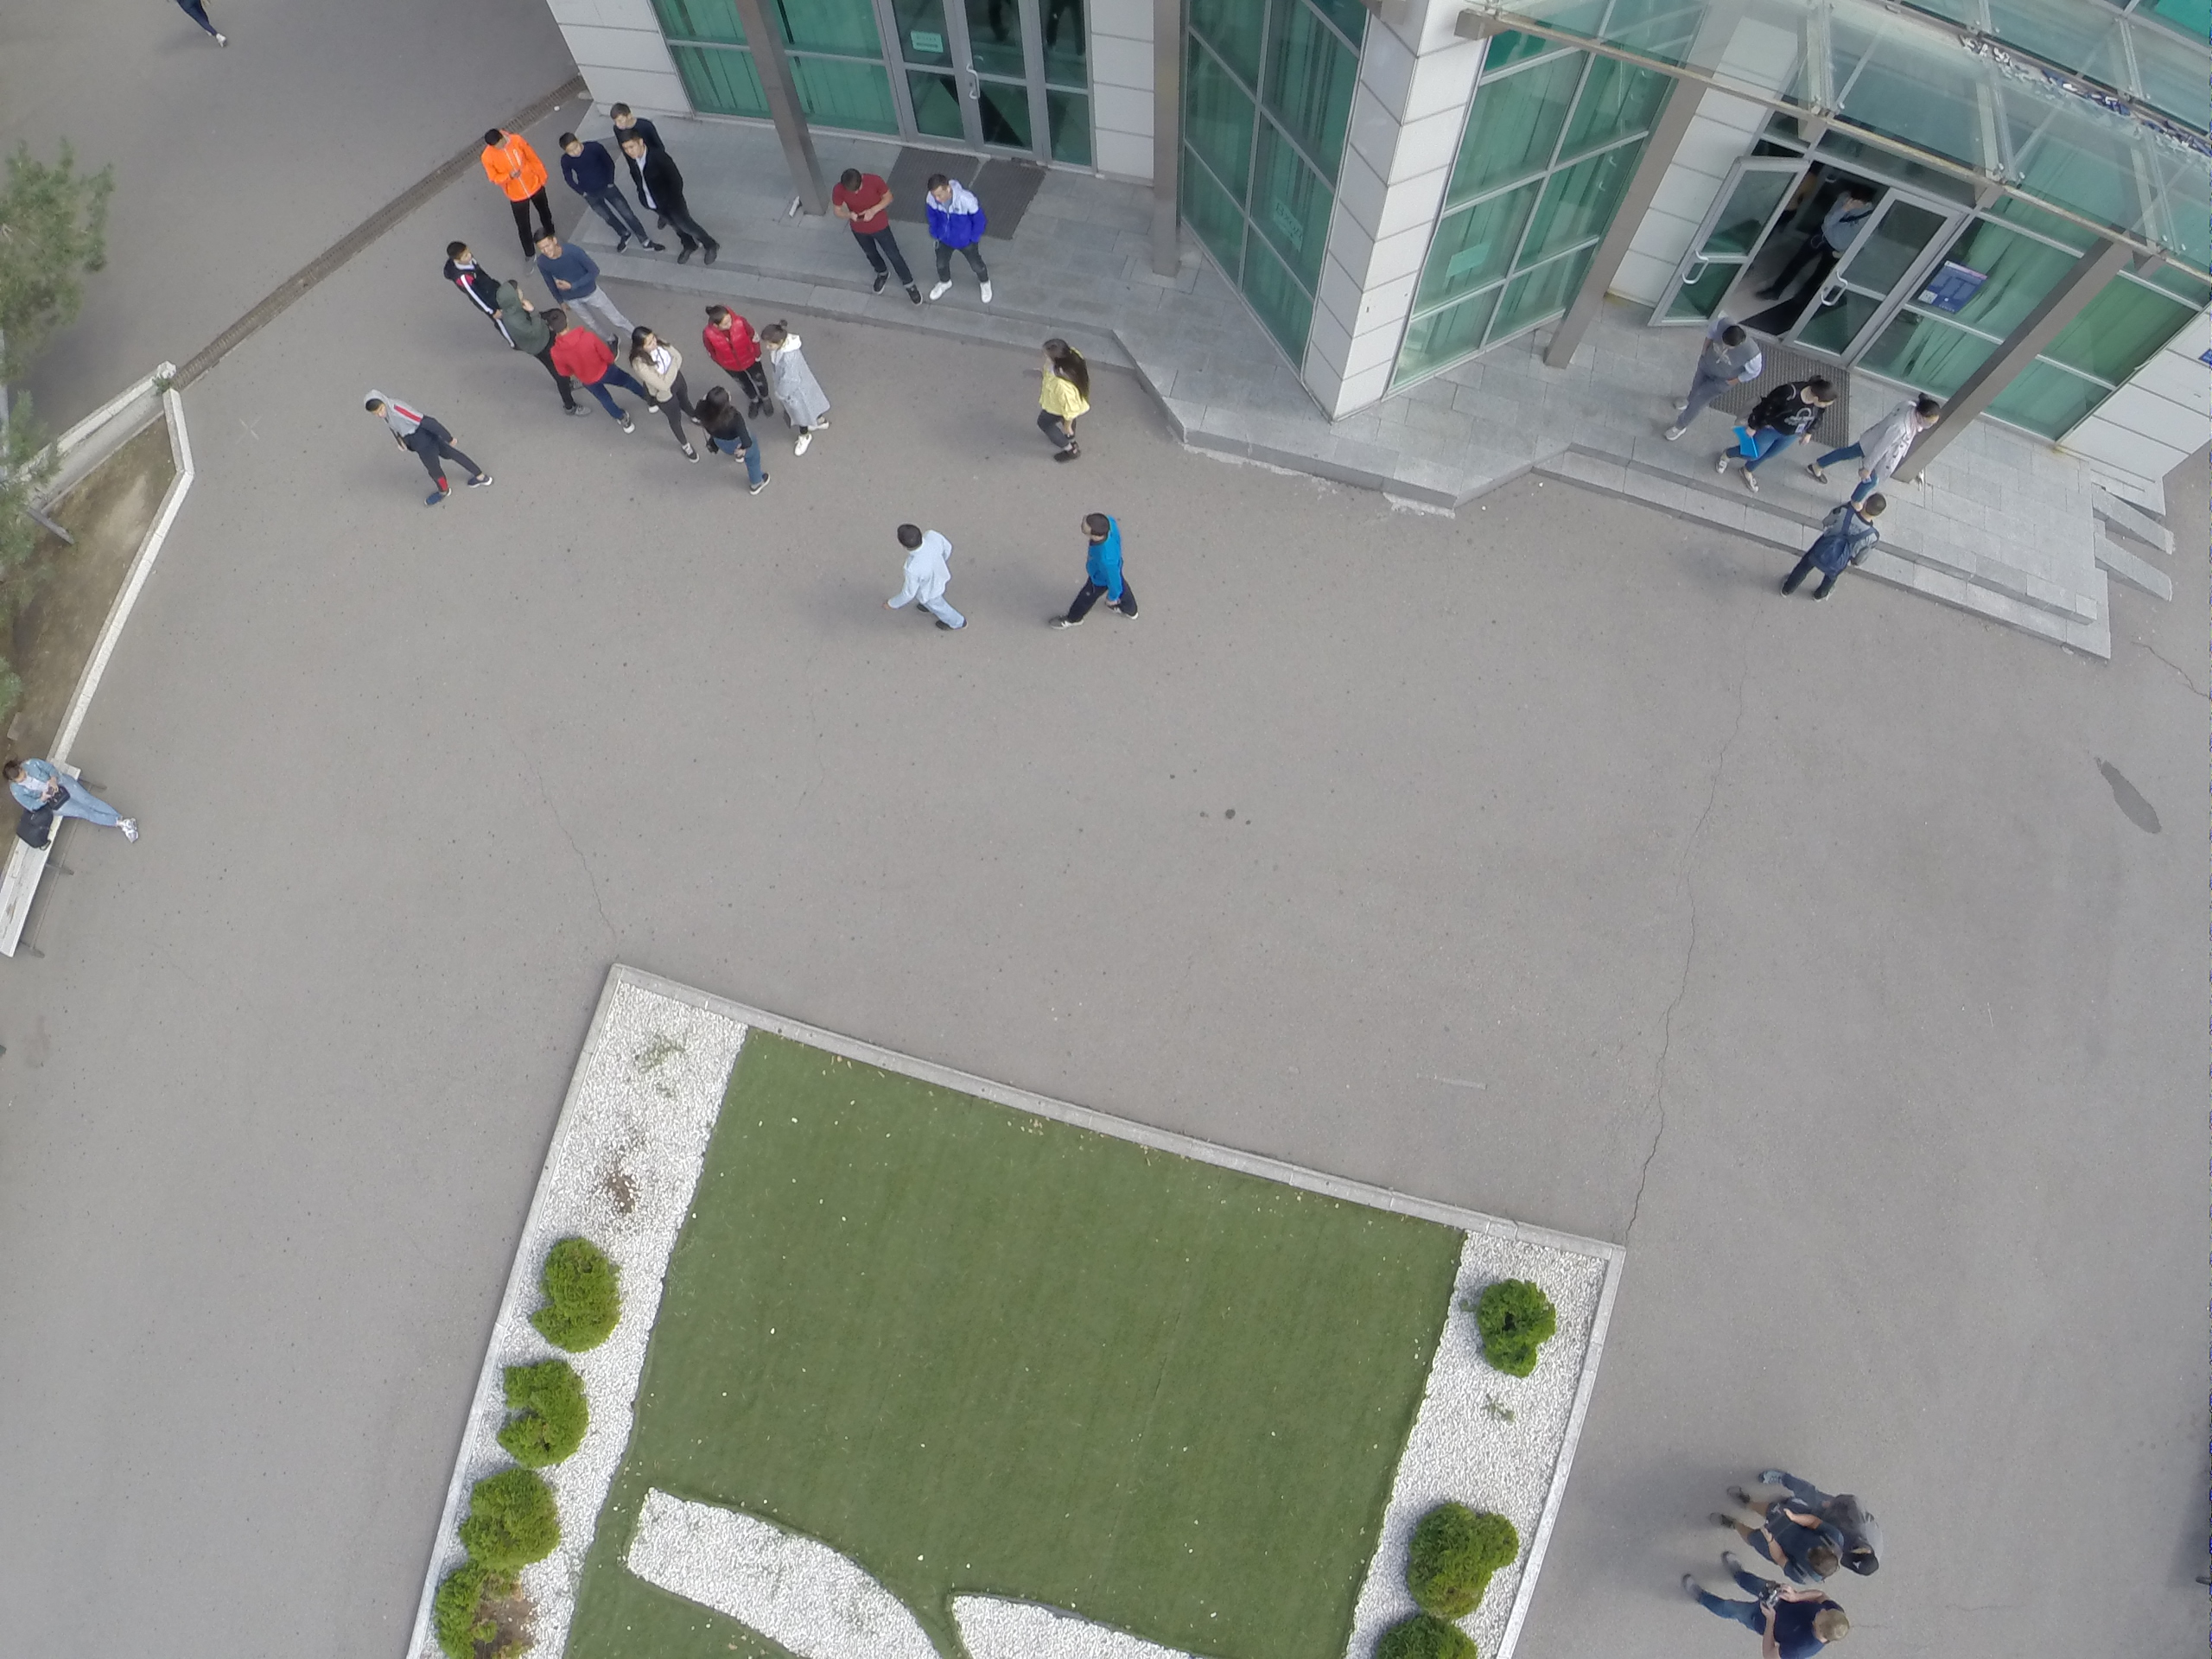person: (359, 388, 499, 510), (1678, 1565, 1851, 1659), (1718, 368, 1835, 500), (628, 136, 725, 273), (2, 751, 137, 846), (1777, 490, 1887, 603), (1720, 1488, 1839, 1592), (530, 227, 633, 342), (1811, 394, 1942, 485), (1666, 315, 1759, 442), (832, 168, 917, 306), (1052, 510, 1141, 640), (548, 302, 632, 438), (756, 321, 833, 461), (878, 524, 969, 632), (924, 170, 994, 306), (693, 383, 771, 501), (636, 318, 699, 464), (555, 130, 624, 256), (701, 302, 775, 417), (480, 124, 559, 225), (1035, 337, 1091, 467), (492, 275, 547, 357), (440, 239, 499, 311), (607, 100, 652, 131)
